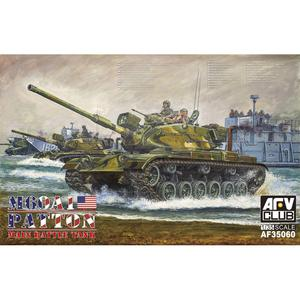Battle Tank: (64, 113, 272, 202), (38, 129, 118, 166)
